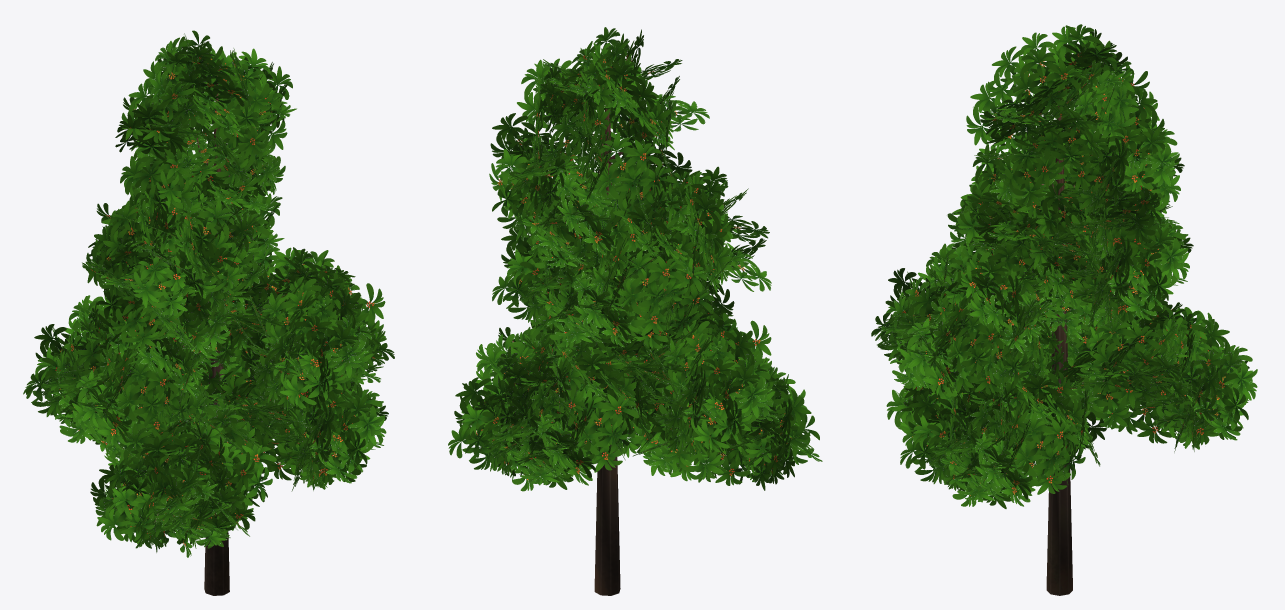
The model's file is Tembesu.fbx.
The picture shows the model from 3 angles, left to right: view 1: azimuth 30°, elevation 25°; view 2: azimuth 150°, elevation 25°; view 3: azimuth 270°, elevation 25°; orthographic projection.
Parts seen in each view (by area): view 1: Tembesu.002; view 2: Tembesu.002; view 3: Tembesu.002.
Boxes of the visible parts, x1,y1,x2,y2 form: Tembesu.002: (23,30,394,595); Tembesu.002: (448,27,822,595); Tembesu.002: (871,24,1257,595).
Bounding box in the file's own units: 498 × 825 × 543.
